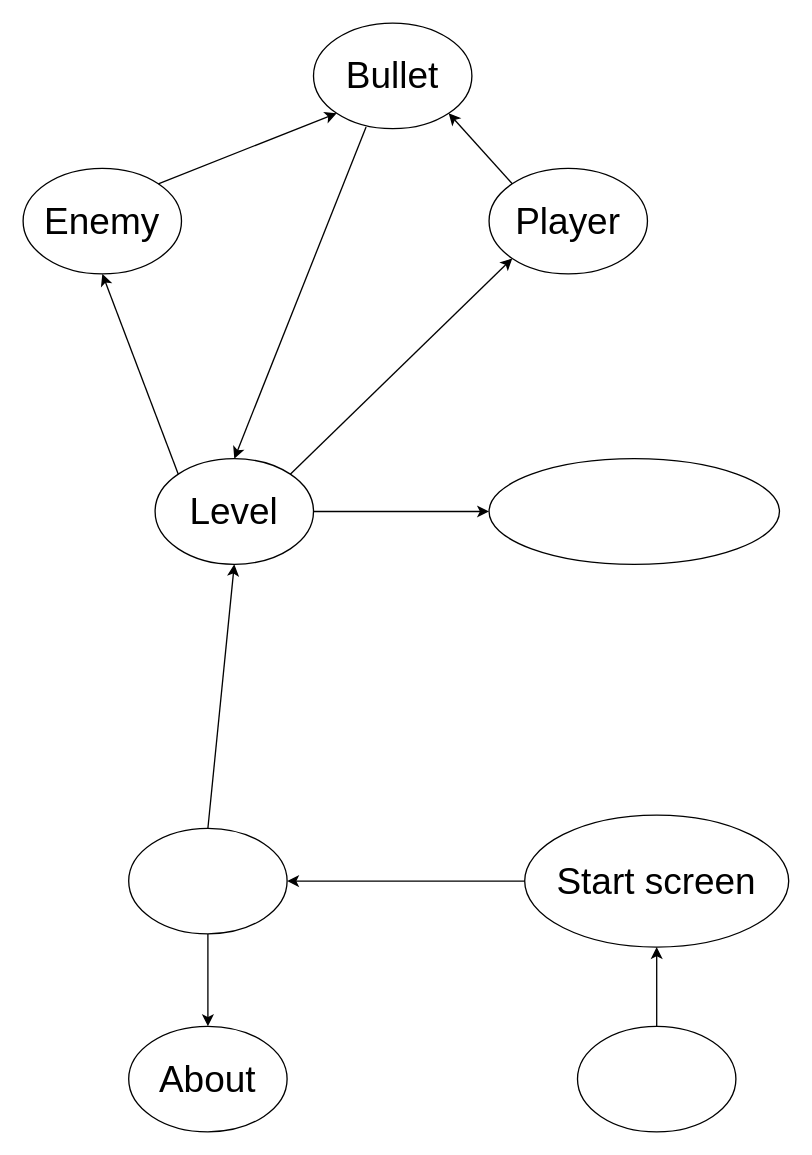
The diagram is 812 pixels wide and 1155 high, and some of its shapes have lost their labels. Each missing label, with the box of its shape:
Background: (488, 457, 779, 564)
Game: (576, 1025, 736, 1132)
Menu: (127, 827, 287, 934)
